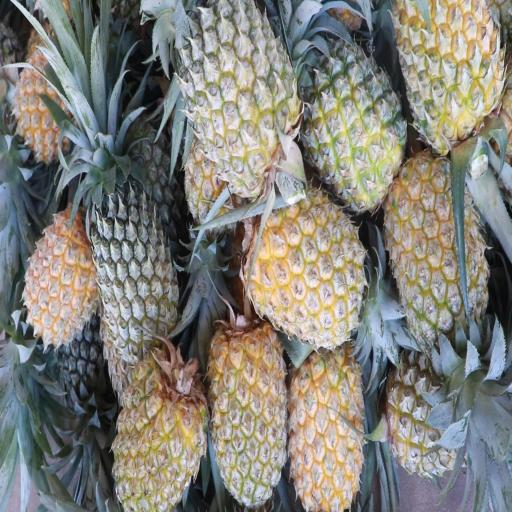------------------------------: (182, 0, 298, 183), (306, 42, 403, 206), (387, 348, 473, 471)
Pineapple - v8 v1: (388, 154, 490, 333), (252, 186, 363, 341), (396, 0, 507, 143), (208, 321, 287, 500), (114, 357, 205, 508), (290, 342, 364, 508), (24, 210, 97, 345), (12, 40, 85, 160)
